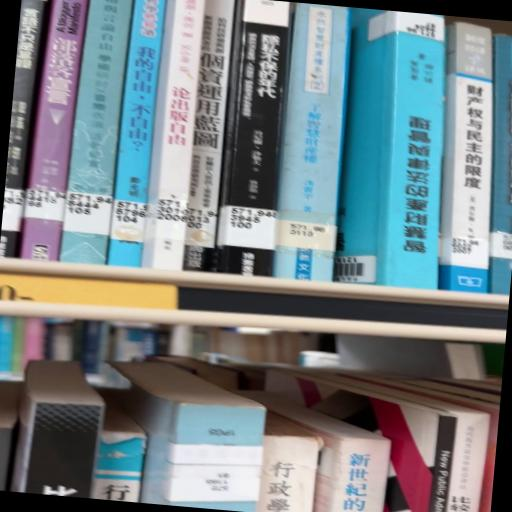reverse: (335, 9, 446, 291)
